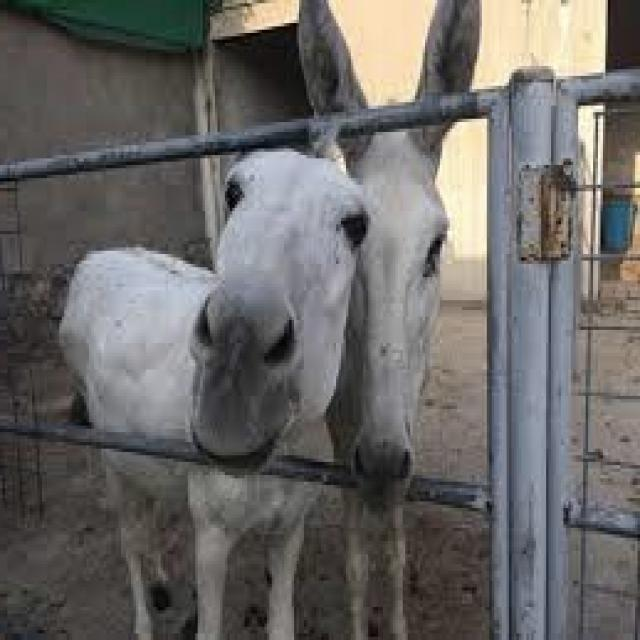donkey: (62, 148, 371, 637), (301, 0, 482, 637)
